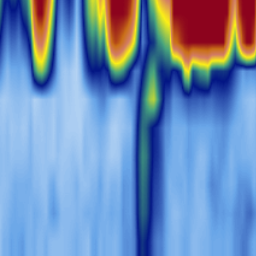defect: (151, 1, 234, 113), (81, 1, 136, 92), (139, 64, 165, 256), (23, 1, 58, 93), (232, 1, 256, 70)
